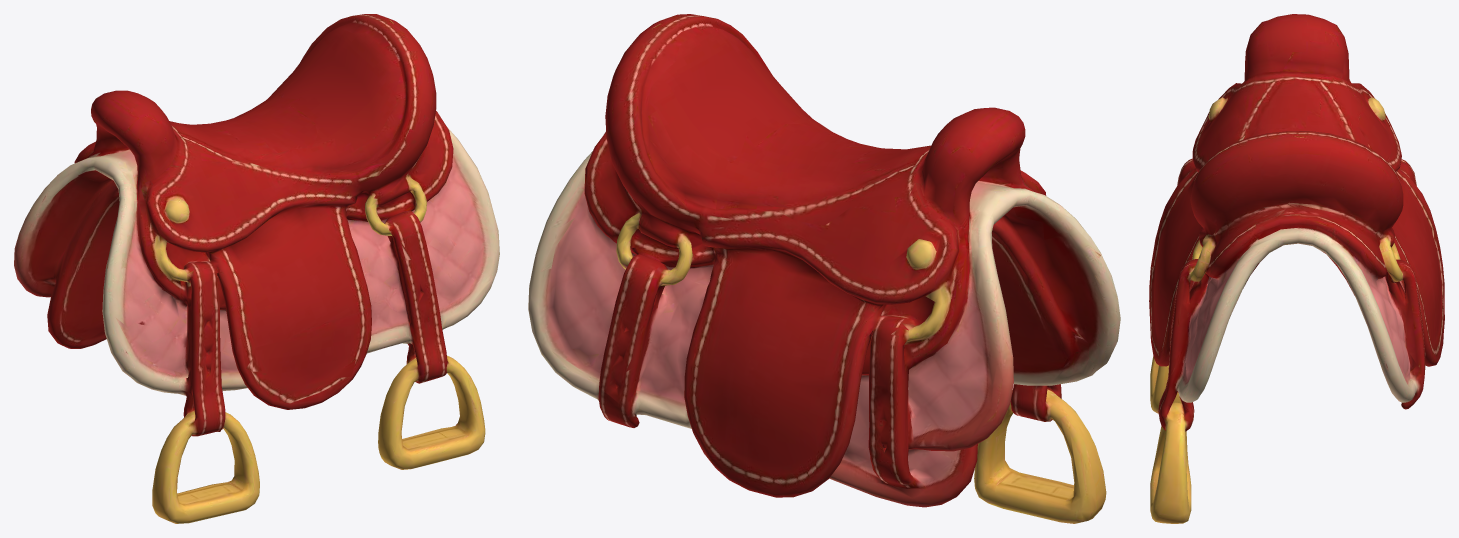
3 views of the same model, side by side, from view 1: azimuth 30°, elevation 25°; view 2: azimuth 150°, elevation 25°; view 3: azimuth 270°, elevation 25° (orthographic). The views are drawn at different scales.
Visible parts, largest first — view 1: saddle-red; view 2: saddle-red; view 3: saddle-red.
Part boxes in pixels (x1,y1,x2,y2): saddle-red: (14,14,499,523); saddle-red: (528,14,1120,523); saddle-red: (1149,14,1444,523).
Bounding box in the file's own units: 0.3748 × 0.3474 × 0.2441.
1 material, 1 textured.
